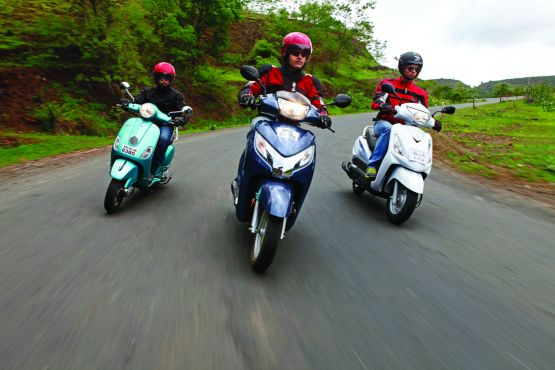helmet: (282, 33, 311, 54), (153, 63, 177, 88), (398, 52, 422, 77)
